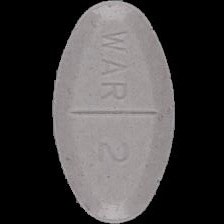21695-673: (0, 0, 224, 224)
